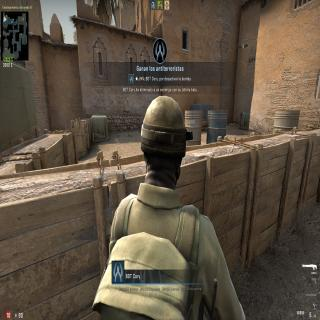CT-Head: (138, 89, 192, 191)
